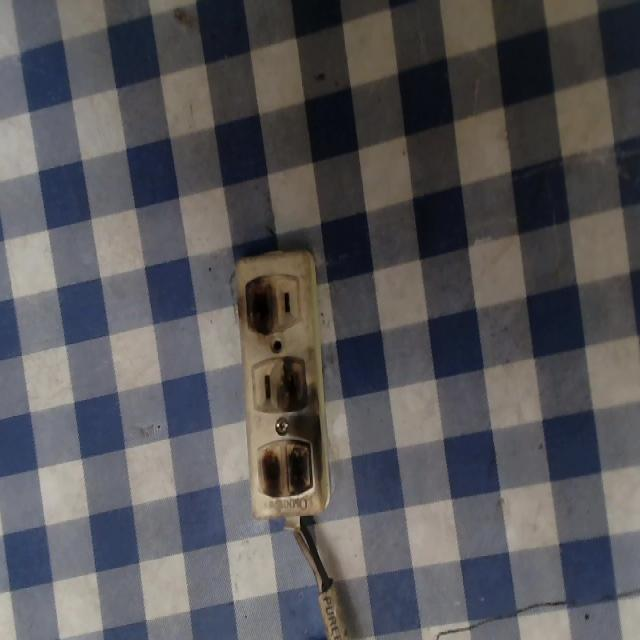-: (251, 437, 324, 500), (233, 265, 284, 336), (272, 345, 318, 419)
